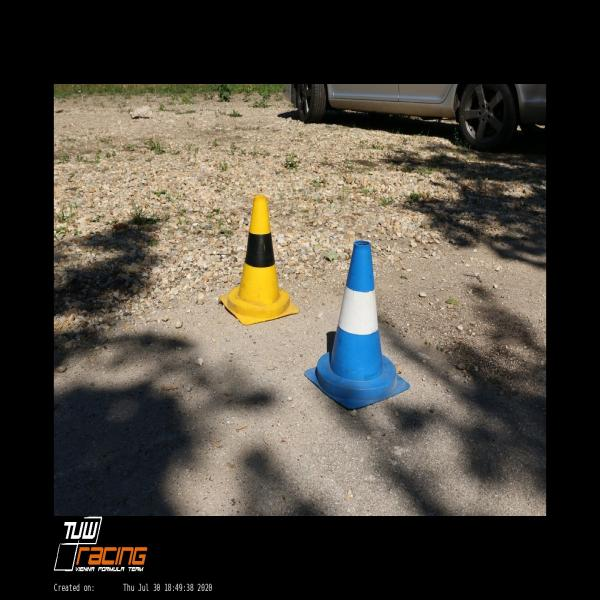blue_cone: (305, 241, 409, 410)
yellow_cone: (219, 196, 299, 325)
